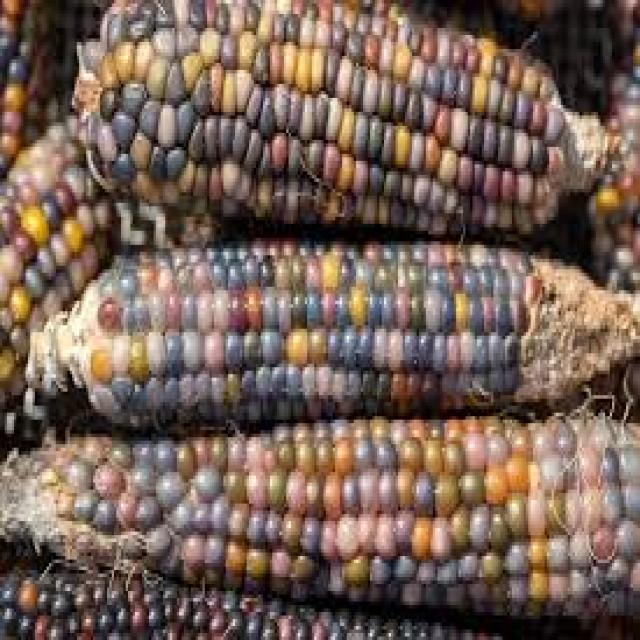discolored corn: (79, 0, 610, 245), (114, 413, 631, 618), (77, 226, 556, 410)
